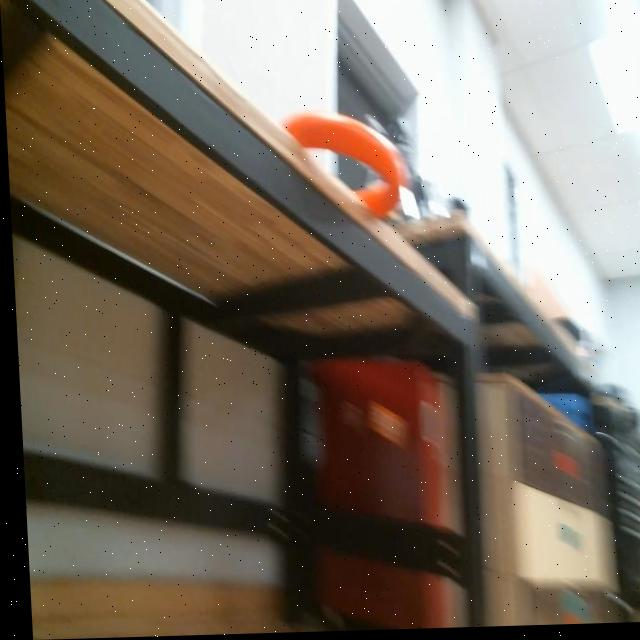note: (281, 107, 405, 222)
